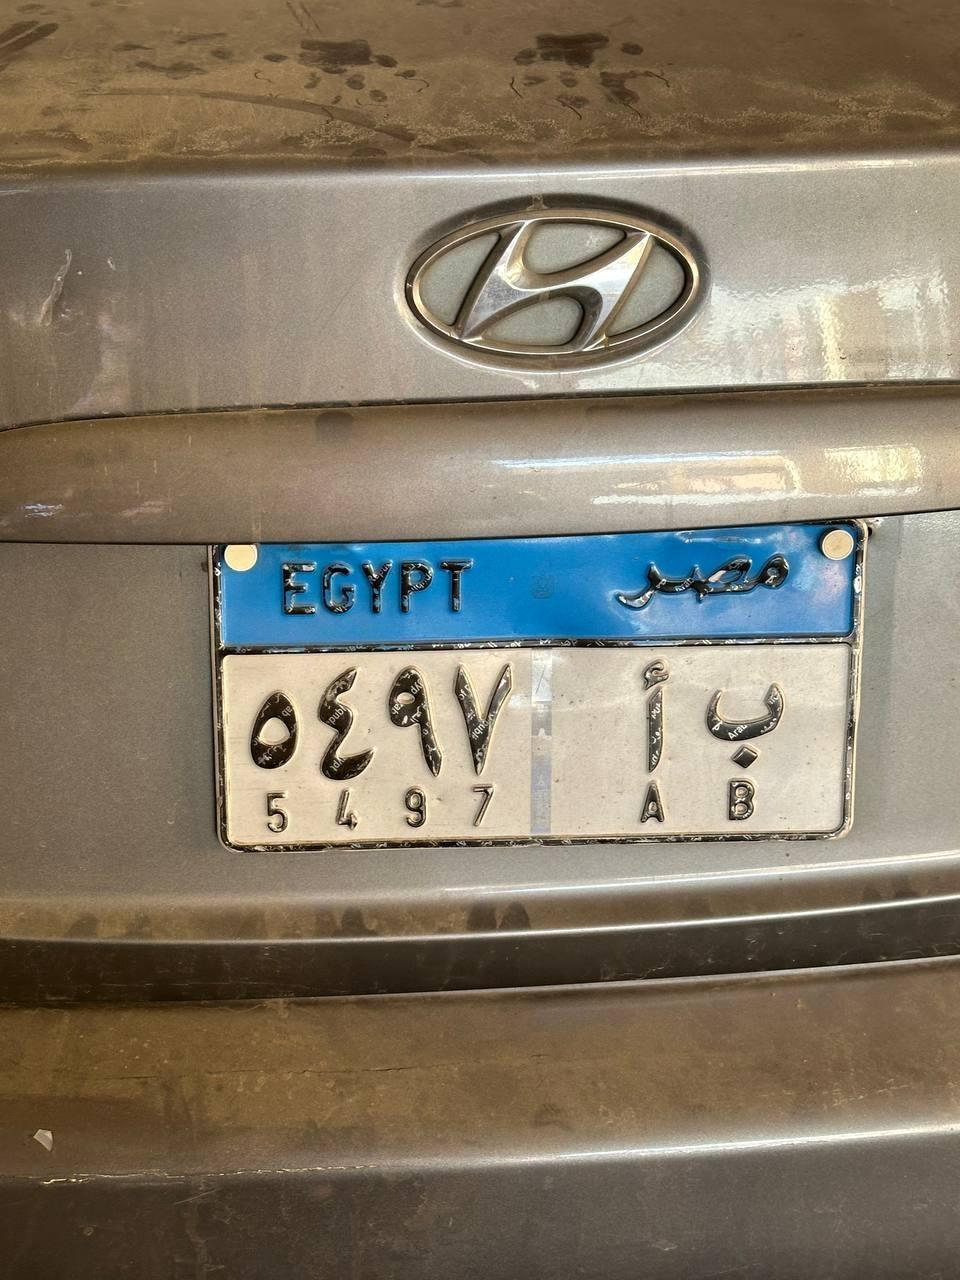4: (313, 661, 361, 792)
5: (233, 690, 305, 770)
7: (441, 646, 513, 773)
9: (373, 662, 453, 773)
License Plate: (216, 508, 860, 844)
alef: (613, 664, 693, 768)
baa: (693, 682, 786, 773)
